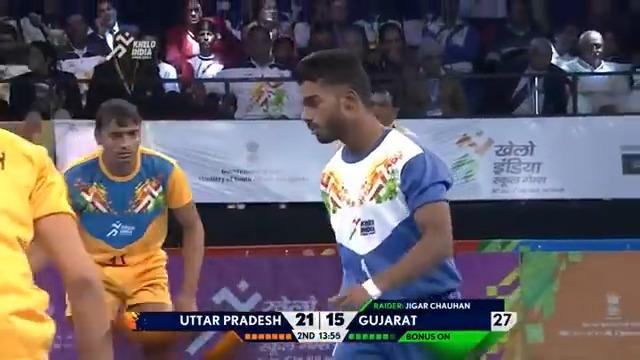Player: (59, 97, 205, 358), (0, 125, 115, 359)
Raider: (295, 47, 464, 358)
